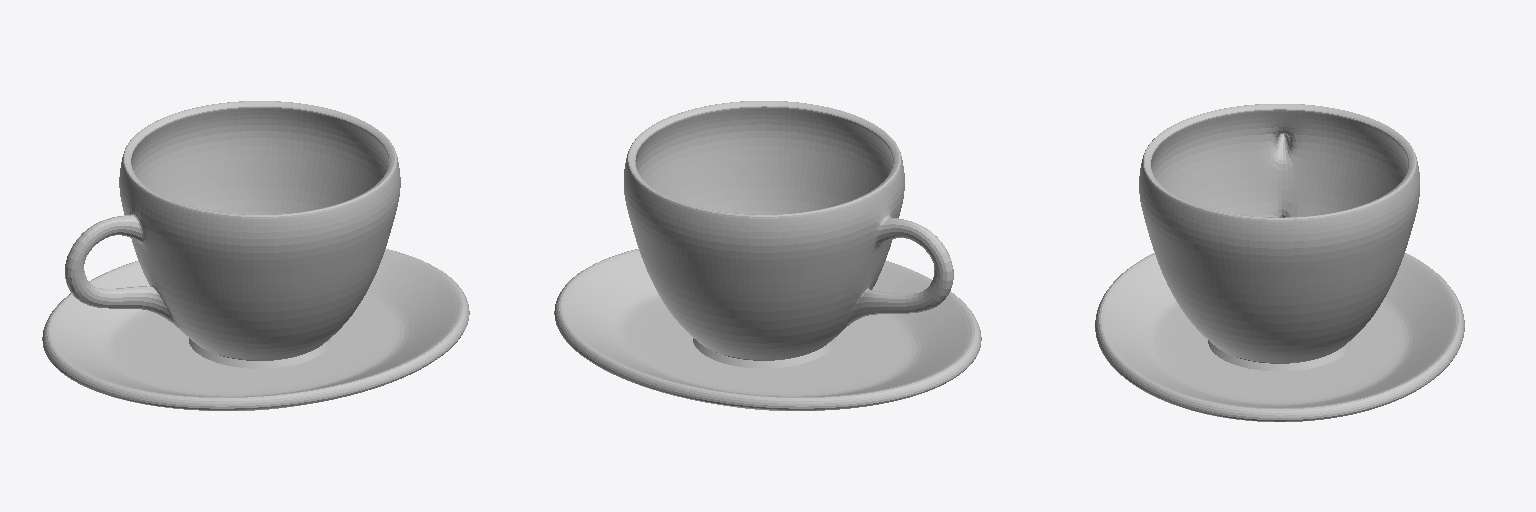
File: cup.obj
3 renders of one model, left to right at view 1: azimuth 30°, elevation 25°; view 2: azimuth 150°, elevation 25°; view 3: azimuth 270°, elevation 25°, orthographic.
Visible parts, largest first — view 1: Cilindro, Círculo; view 2: Cilindro, Círculo; view 3: Cilindro, Círculo.
Boxes of the visible parts, <box> form: Cilindro: <box>65,101,400,368</box>; Círculo: <box>42,249,469,410</box>; Cilindro: <box>624,101,953,368</box>; Círculo: <box>554,249,981,410</box>; Cilindro: <box>1139,104,1419,371</box>; Círculo: <box>1095,253,1464,421</box>.
Size of the model in its own units: 3.83 by 1.84 by 3.19.